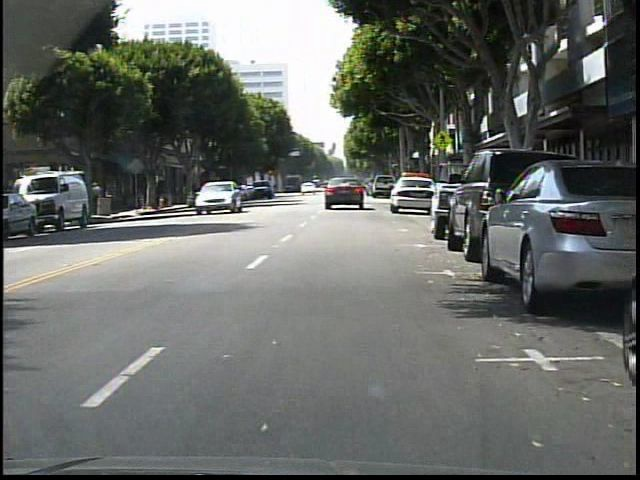person: (89, 178, 107, 217)
